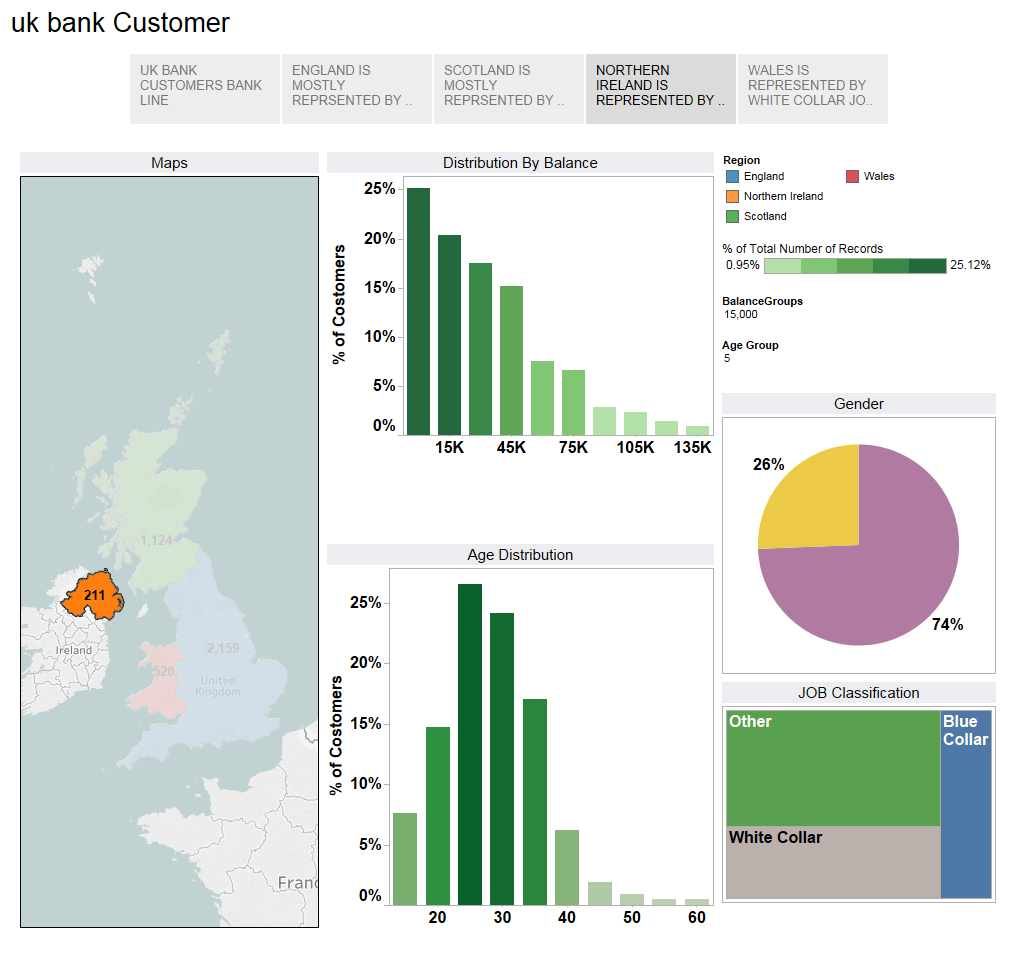

What the dashboard file says about the page in this screenshot:
{"tool":"tableau","page":{"name":"Costomer Segmentation","canvas":[1000,800],"ordinal":0},"visuals":[{"type":"worksheet","title":"Maps","mark":"Multipolygon","box":[8,8,306.9,784]},{"type":"worksheet","title":"Distribution By Balance ","mark":"Automatic","rows":["Number of Records"],"cols":["Balance (bin)"],"box":[314.9,8,395.1,392]},{"type":"legend","title":"Maps","param":"[federated.06w1h3n15af2w2138ys471fpdggo].[none:Region:nk]","box":[710,8,282,86]},{"type":"legend","title":"Distribution By Balance ","param":"[federated.06w1h3n15af2w2138ys471fpdggo].[pcto:sum:Number of Records:qk]","box":[710,94,282,56]},{"type":"parameter","param":"[Parameters].[Parameter 1]","box":[710,150,282,44]},{"type":"parameter","param":"[Parameters].[Parameter 2]","box":[710,194,282,55]},{"type":"worksheet","title":"Gender","mark":"Pie","box":[710,249,282,289]},{"type":"worksheet","title":"Age Distribution","mark":"Bar","rows":["Number of Records"],"cols":["Age (bin)"],"box":[314.9,400,395.1,392]},{"type":"worksheet","title":"JOB Classification","mark":"Automatic","box":[710,538,282,254]}]}

Visuals, with their boxes on the page's 1000x800 design canvas (x1, y1, x2, y2). These are canvas units, not pixel positions in the 1016x964 screenshot, which may show the page scaled, cropped or inside an application window:
"Maps" worksheet (Multipolygon marks): (x1=8, y1=8, x2=315, y2=792)
"Distribution By Balance " worksheet: (x1=315, y1=8, x2=710, y2=400)
"Maps" legend: (x1=710, y1=8, x2=992, y2=94)
"Distribution By Balance " legend: (x1=710, y1=94, x2=992, y2=150)
parameter: (x1=710, y1=150, x2=992, y2=194)
parameter: (x1=710, y1=194, x2=992, y2=249)
"Gender" worksheet (Pie marks): (x1=710, y1=249, x2=992, y2=538)
"Age Distribution" worksheet (Bar marks): (x1=315, y1=400, x2=710, y2=792)
"JOB Classification" worksheet: (x1=710, y1=538, x2=992, y2=792)
